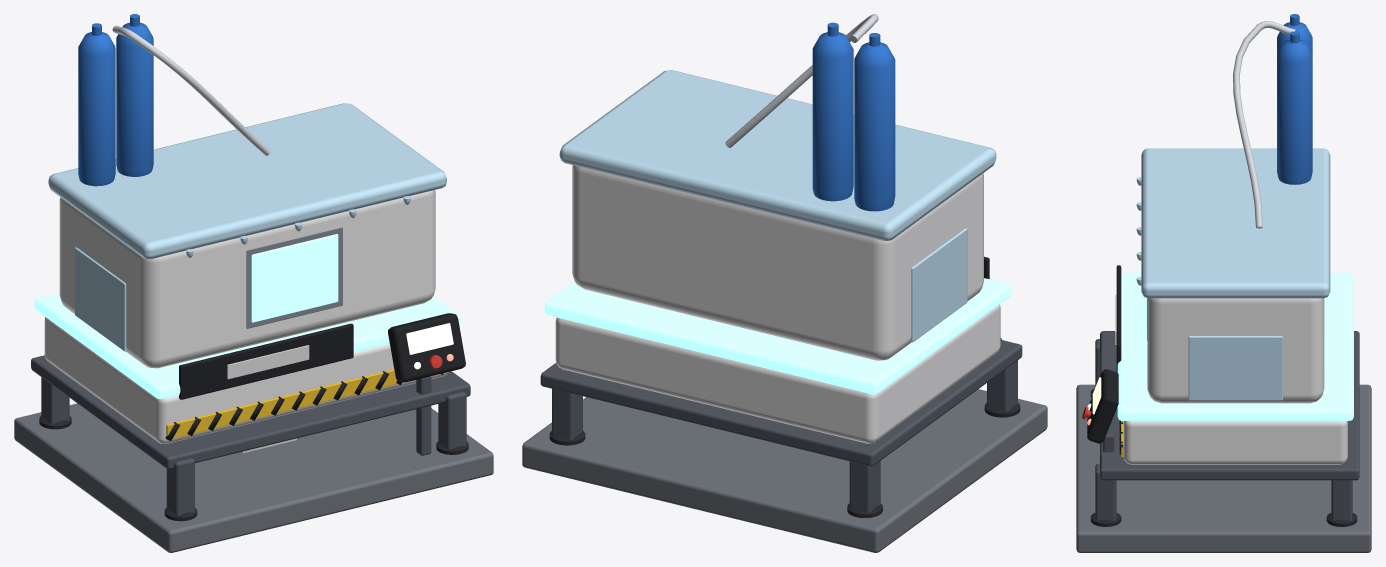
The model's file is CryoTunnel.fbx.
3 renders of one model, left to right at view 1: azimuth 30°, elevation 25°; view 2: azimuth 150°, elevation 25°; view 3: azimuth 270°, elevation 25°, orthographic. The views are drawn at different scales.
Parts seen in each view (by area): view 1: Body__White, Body__Ice, Body__Plate, Body__MetalDark, Body__NeonCyan, Body__Blue, Body__Black, Body__Yellow, Body__Steel, Body__Chrome, Body__NeonCyan!1, Body__NeonGreen (+1 smaller); view 2: Body__White, Body__Plate, Body__Ice, Body__NeonCyan, Body__MetalDark, Body__Blue, Body__Chrome, Body__Rubber; view 3: Body__Ice, Body__White, Body__Plate, Body__NeonCyan, Body__MetalDark, Body__Blue, Body__Black, Body__Chrome, Body__Rubber.
Boxes of the visible parts, x1,y1,x2,y2 form: Body__White: (44,190,449,443); Body__Ice: (48,103,446,351); Body__Plate: (14,403,493,552); Body__MetalDark: (31,355,470,515); Body__NeonCyan: (34,234,460,399); Body__Blue: (78,14,153,186); Body__Black: (165,313,465,440); Body__Yellow: (166,369,403,439); Body__Steel: (246,227,342,328); Body__Chrome: (112,25,270,155); Body__NeonCyan!1: (227,345,309,379); Body__NeonGreen: (406,323,453,369); Body__White: (555,165,1000,443); Body__Plate: (522,389,1047,552); Body__Ice: (559,70,996,342); Body__NeonCyan: (544,278,1011,394); Body__MetalDark: (540,340,1022,512); Body__Blue: (812,22,895,211); Body__Chrome: (725,14,878,147); Body__Rubber: (549,403,1020,517); Body__Ice: (1136,148,1330,400); Body__White: (1123,298,1347,464); Body__Plate: (1076,384,1371,552); Body__NeonCyan: (1117,272,1353,420); Body__MetalDark: (1095,331,1359,520); Body__Blue: (1277,14,1312,184); Body__Black: (1087,265,1122,454); Body__Chrome: (1233,21,1295,228); Body__Rubber: (1090,388,1357,526).
Bounding box in the file's own units: 6 × 8.18 × 5.
